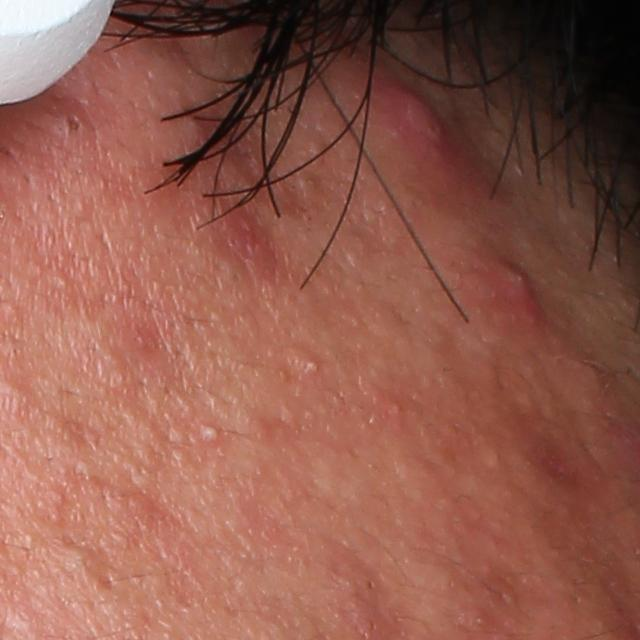comedo: (54, 107, 88, 141)
papule: (369, 67, 482, 191), (470, 250, 540, 320)
